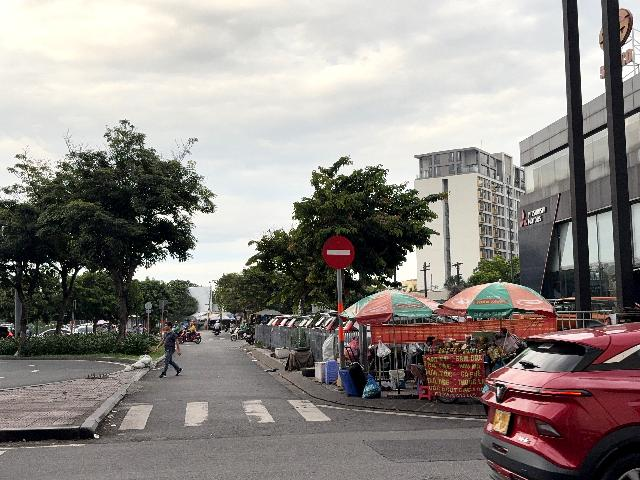cam-di-nguoc-chieu: (322, 236, 355, 269)
